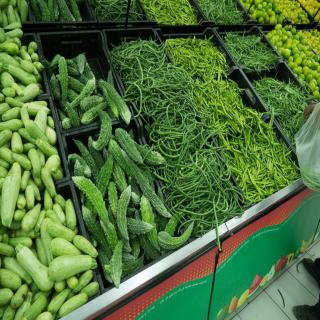Cucumber: (0, 0, 99, 320), (58, 293, 87, 318)
